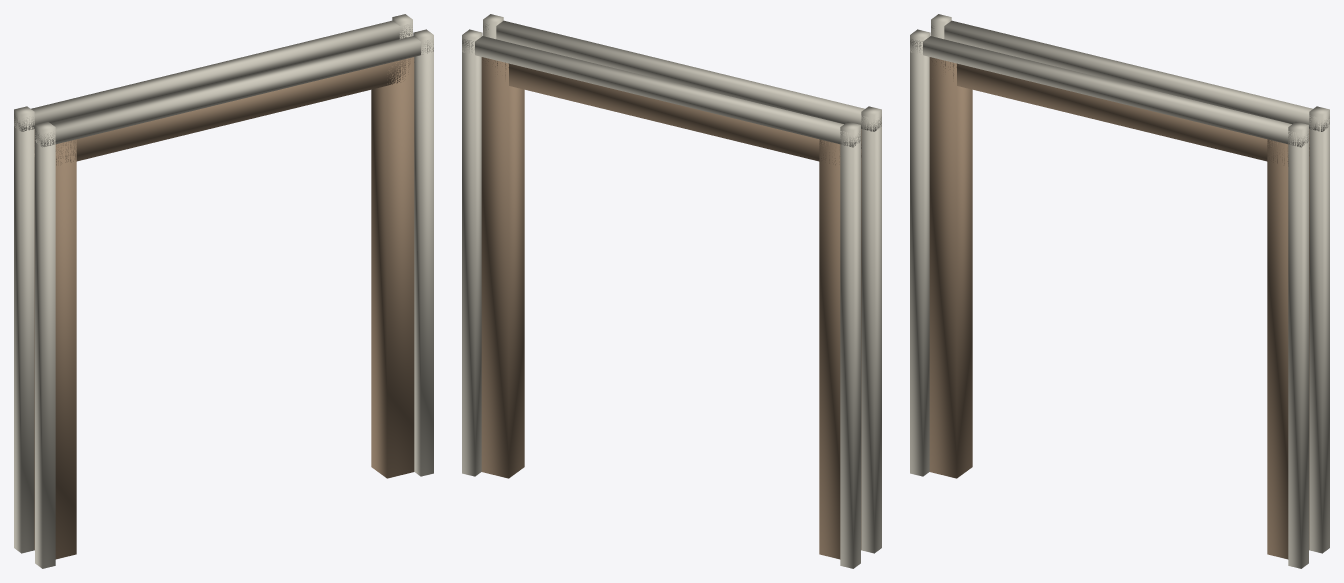
The model's file is doorway_painted_trim_w182_h220_d16.glb.
3 views of the same model, side by side, from view 1: azimuth 30°, elevation 25°; view 2: azimuth 150°, elevation 25°; view 3: azimuth 330°, elevation 25° (orthographic).
Visible parts, largest first — view 1: world; view 2: world; view 3: world.
Part boxes in pixels (left/top/right/bottom): world: left=14, top=14, right=433, bottom=568; world: left=462, top=14, right=881, bottom=568; world: left=910, top=14, right=1329, bottom=568.
Bounding box in the file's own units: 2.29 × 2.46 × 0.2906.
